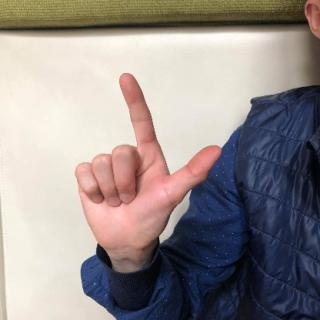LAAM: (62, 70, 225, 260)
